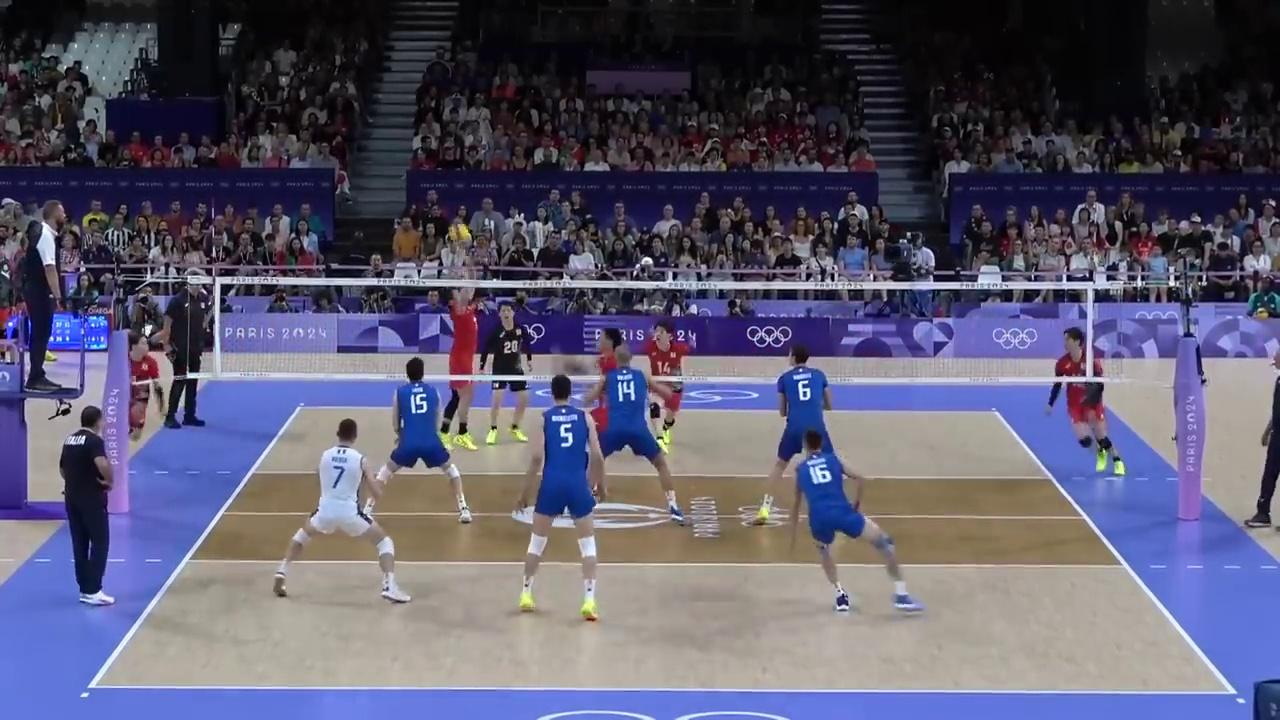ball: (448, 223, 469, 243)
